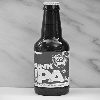beer: (28, 4, 71, 95)
